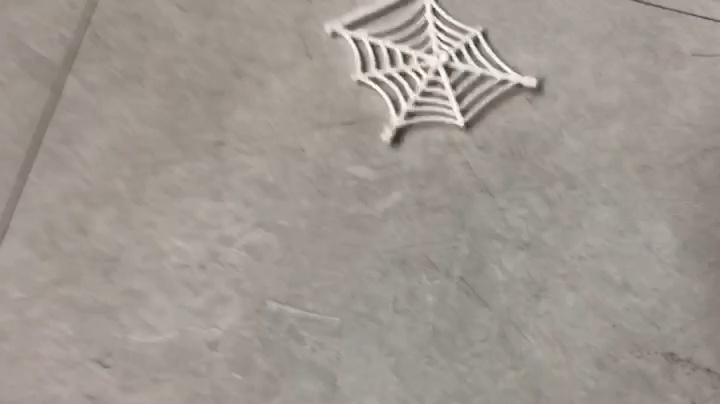web: (323, 1, 543, 146)
